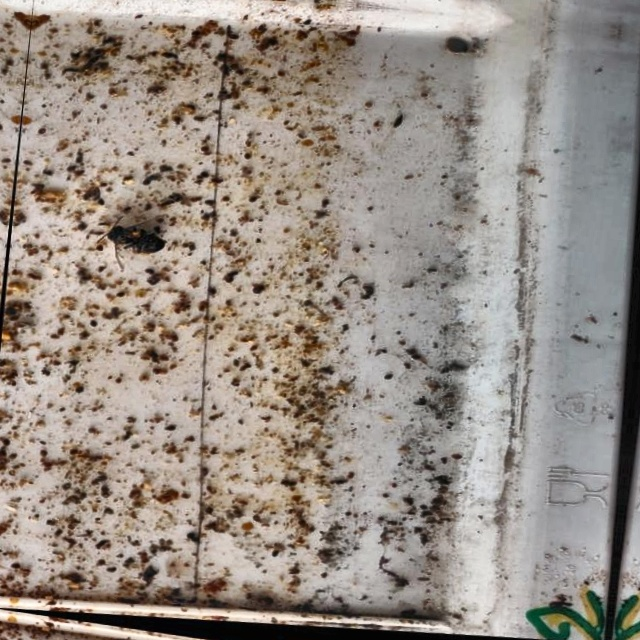varroa: (205, 289, 220, 300), (223, 276, 236, 287), (76, 224, 89, 235), (252, 287, 266, 297), (161, 54, 176, 63), (320, 201, 331, 212), (200, 172, 212, 182), (382, 377, 394, 387), (189, 538, 203, 546), (72, 387, 85, 395), (36, 128, 47, 137), (199, 147, 210, 156), (88, 321, 99, 330), (344, 475, 355, 484), (210, 180, 224, 187), (203, 201, 215, 209), (6, 315, 18, 323), (166, 427, 178, 435), (285, 483, 297, 491), (95, 246, 105, 255), (38, 449, 48, 458), (247, 198, 258, 206), (144, 269, 155, 277), (204, 509, 215, 517), (8, 562, 19, 570), (97, 200, 106, 209), (62, 483, 72, 491), (228, 35, 239, 42), (192, 31, 203, 38), (96, 476, 107, 483), (185, 534, 196, 541), (243, 155, 252, 163), (270, 553, 279, 561), (116, 293, 127, 299), (141, 181, 150, 188), (68, 449, 77, 456), (100, 487, 109, 494), (279, 483, 288, 489)
